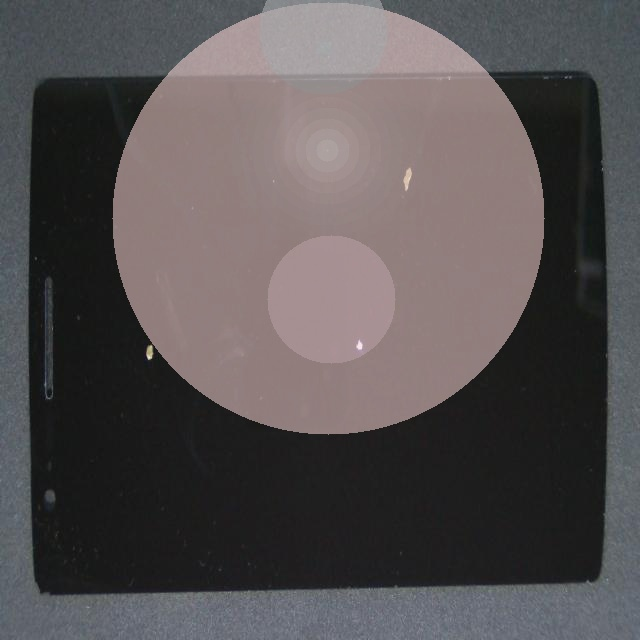stain: (143, 163, 535, 548), (223, 56, 608, 240), (39, 179, 214, 556)
